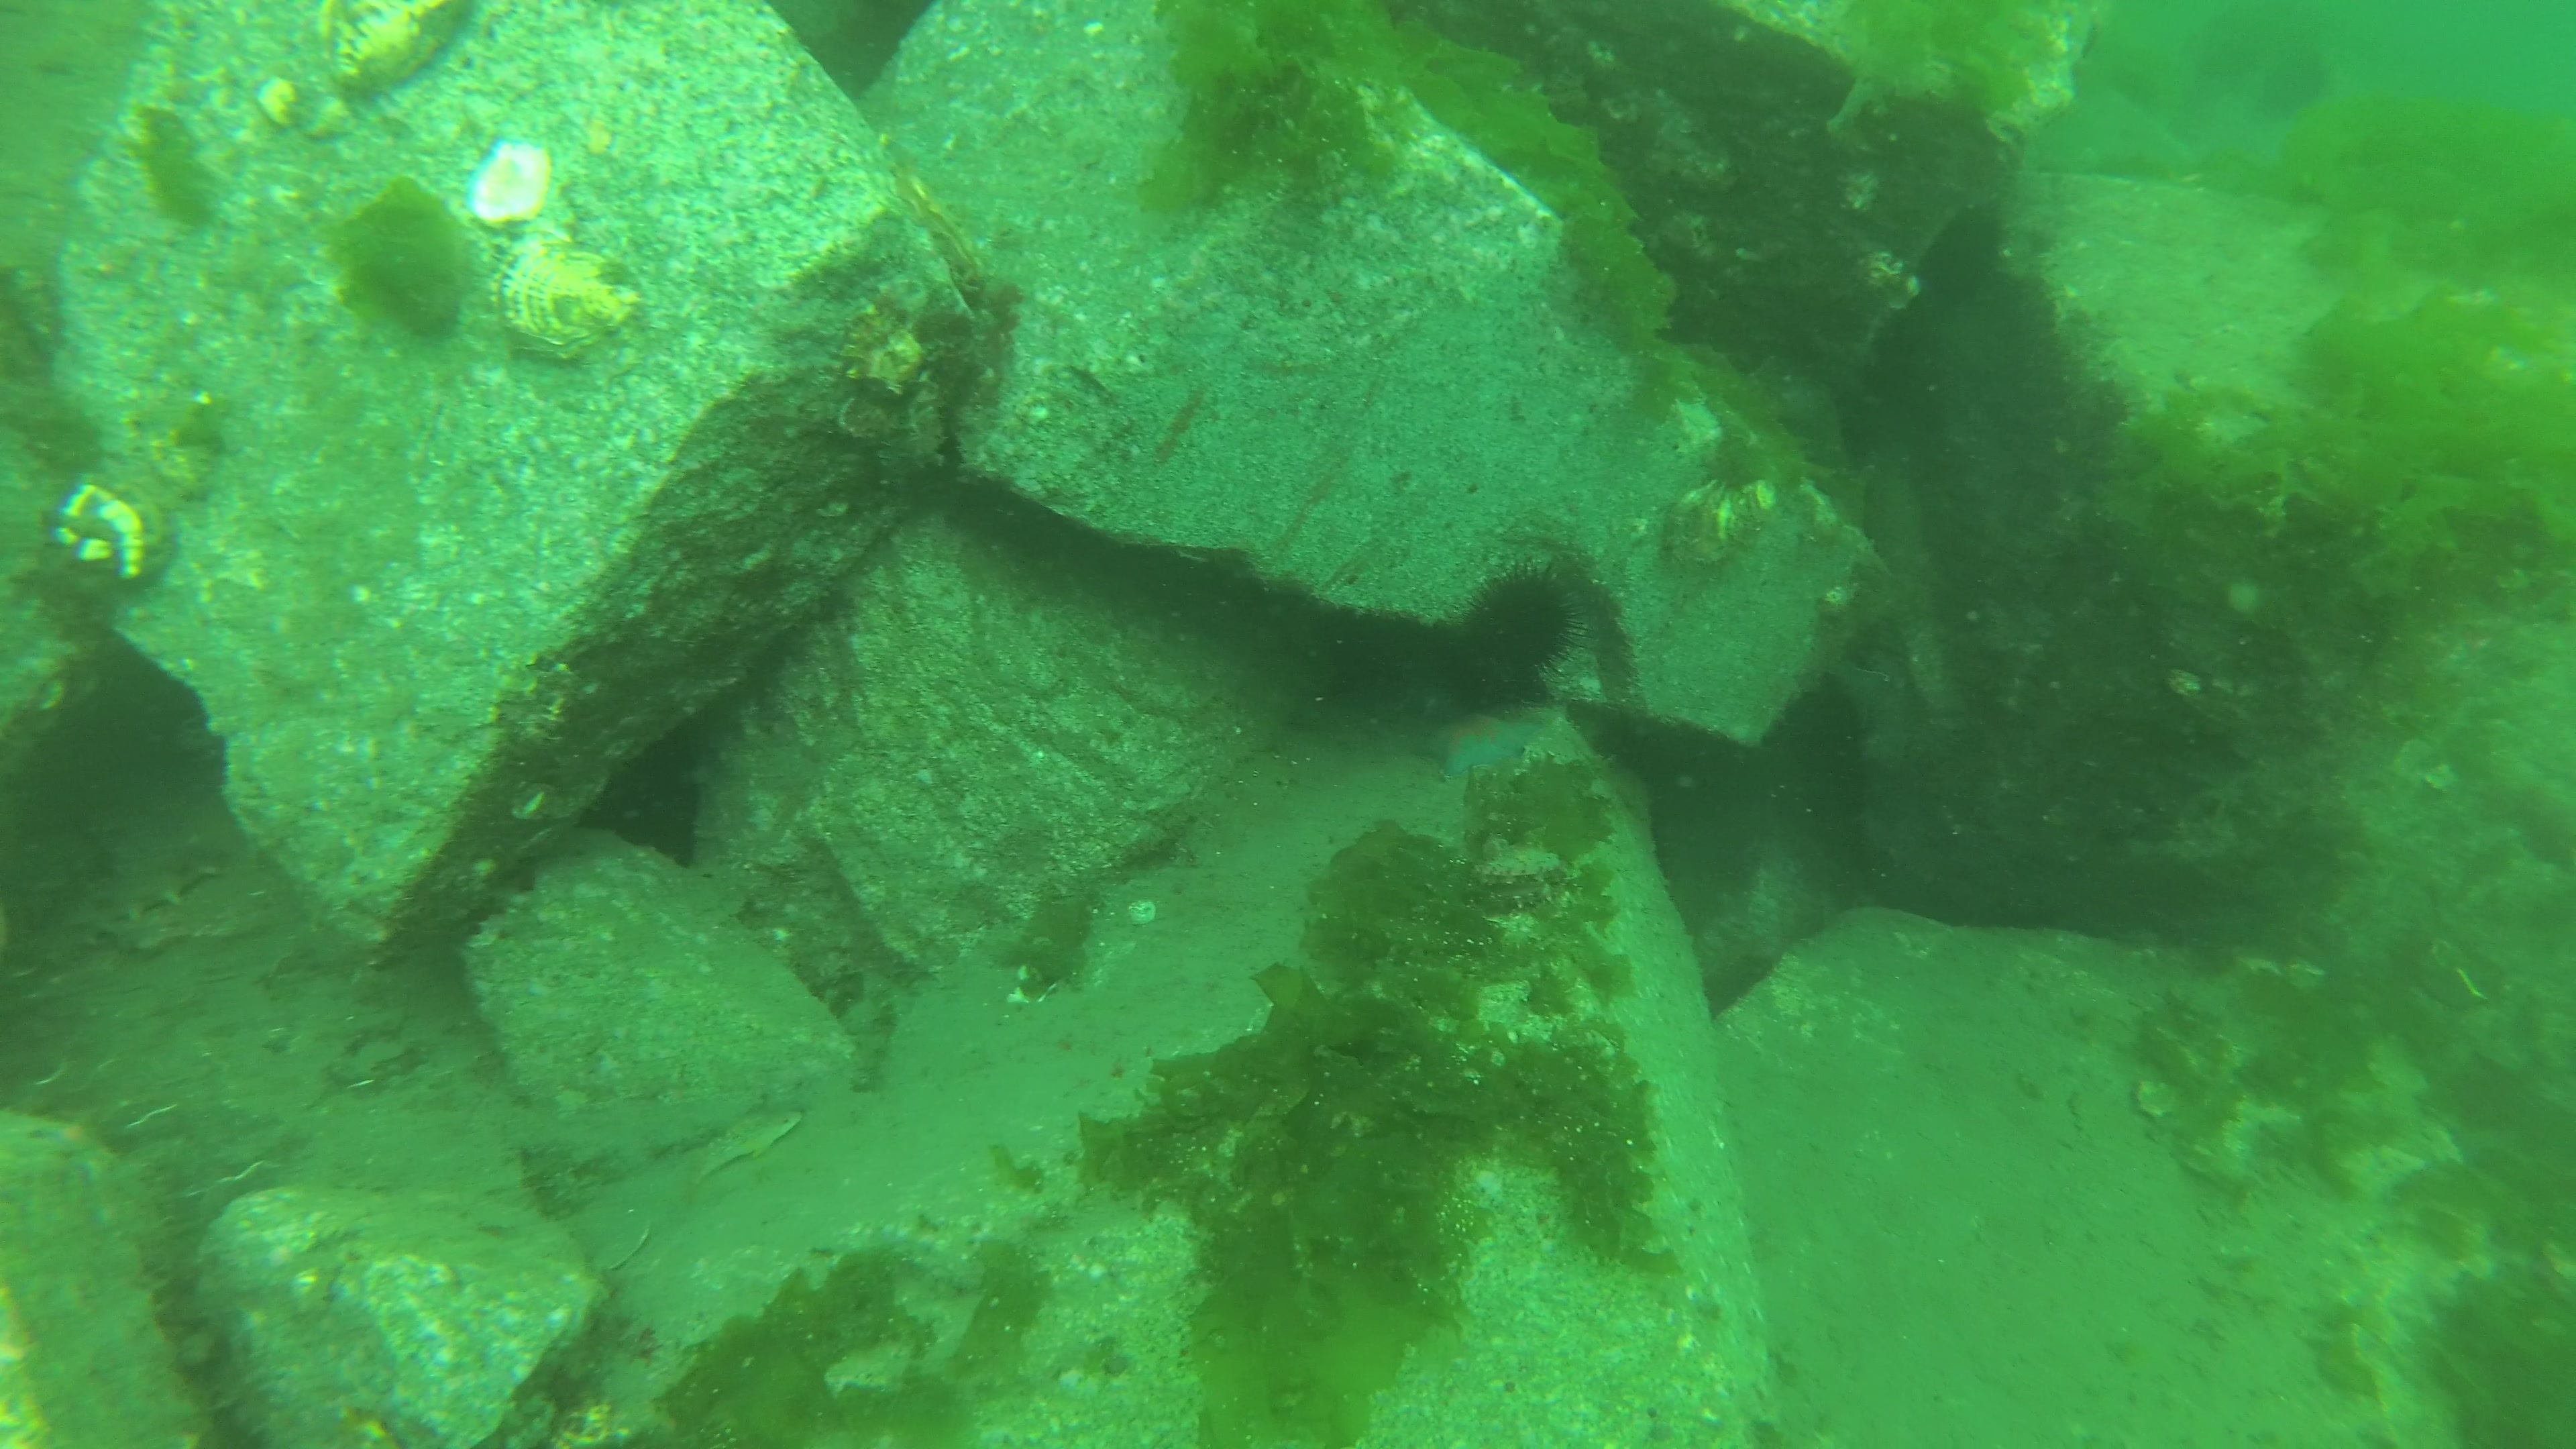echinus: (1444, 556, 1583, 692)
starfish: (1408, 699, 1560, 780)
